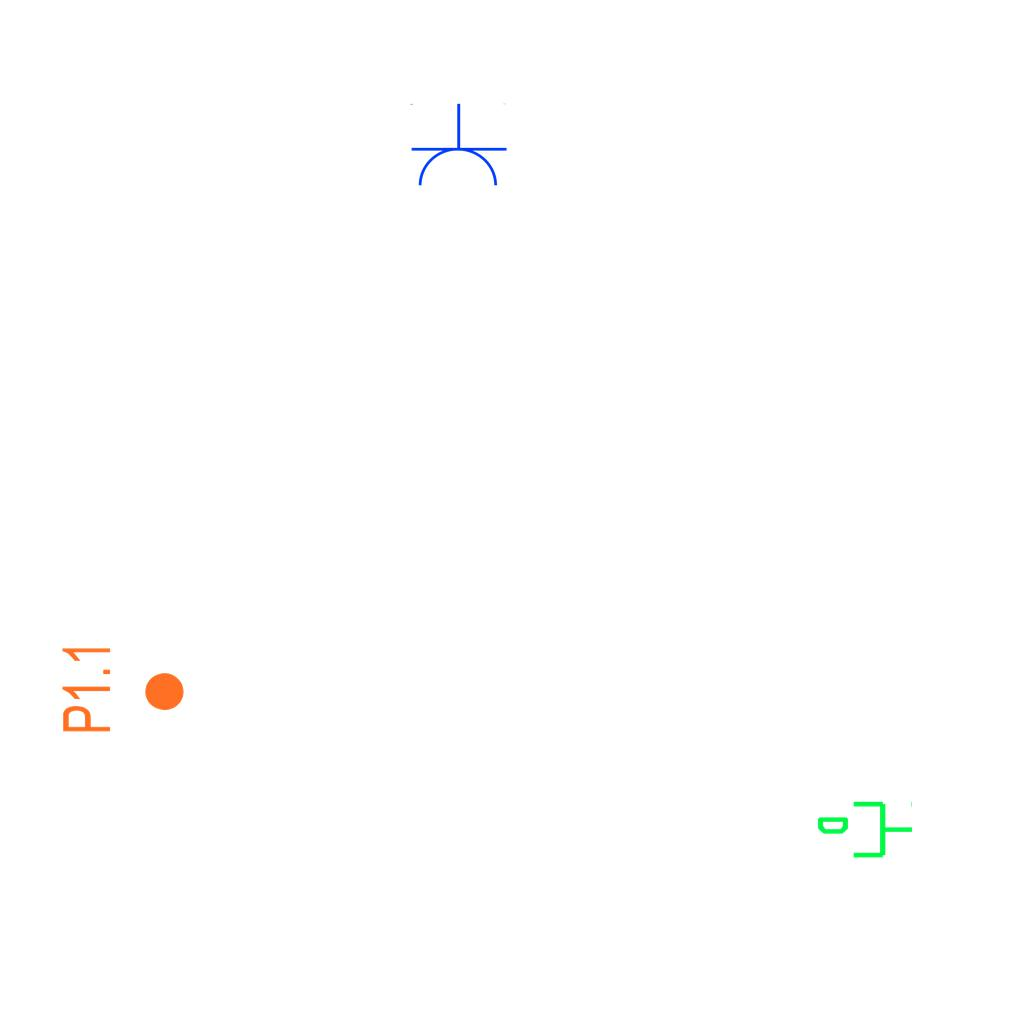Datenanschluss_einfach: (815, 797, 915, 866)
Downlight_LED_Einbauleuchten_Flur: (59, 642, 187, 735)
Schukosteckdose_einfach: (408, 103, 508, 190)
